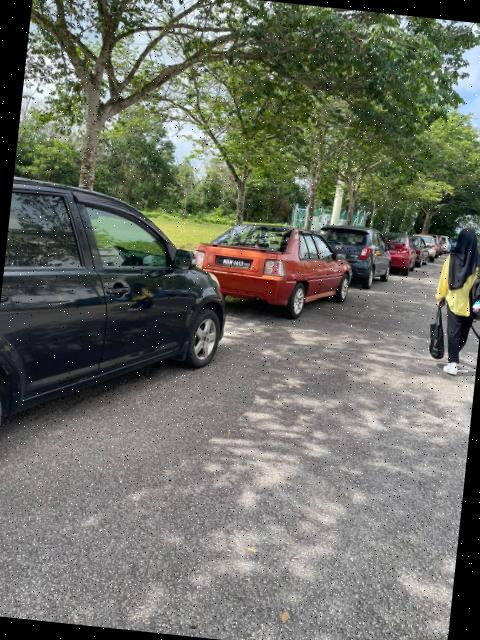License_Plate: (212, 255, 254, 274)
car: (1, 163, 238, 453), (185, 215, 356, 325), (314, 223, 396, 292)
